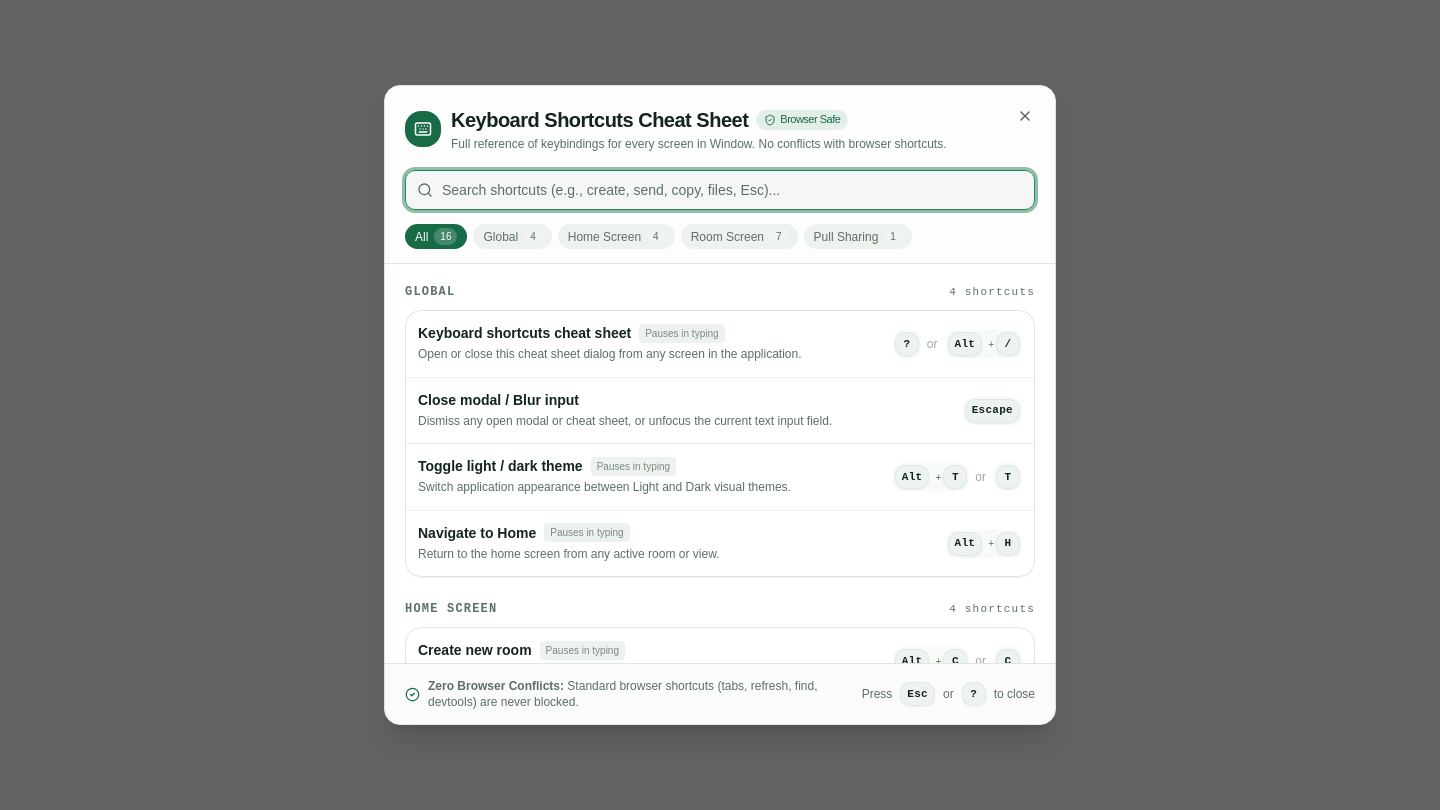
KeybindingCheatSheet component › filters keybinding records using the search bar
Type "Copy Room ID" into the field with placeholder "Search shortcuts (e.g., create, send, copy, files, Esc)...".
click(720, 190); type("Copy Room ID")  # box [405,170,1035,210]
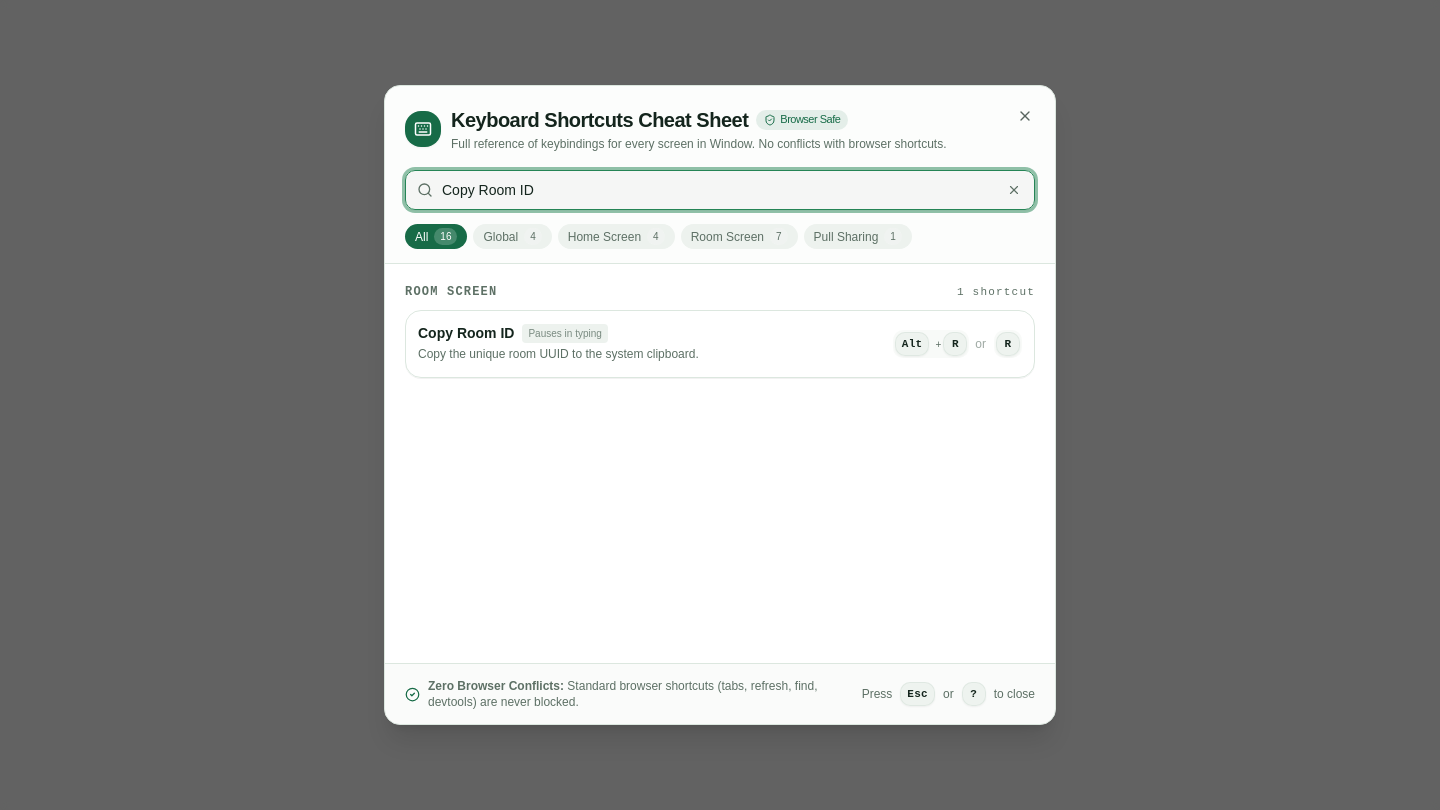
Expected: the text "Copy Room ID" is shown, [418,323,514,343]
Expected: the text "Create new room" is gone
